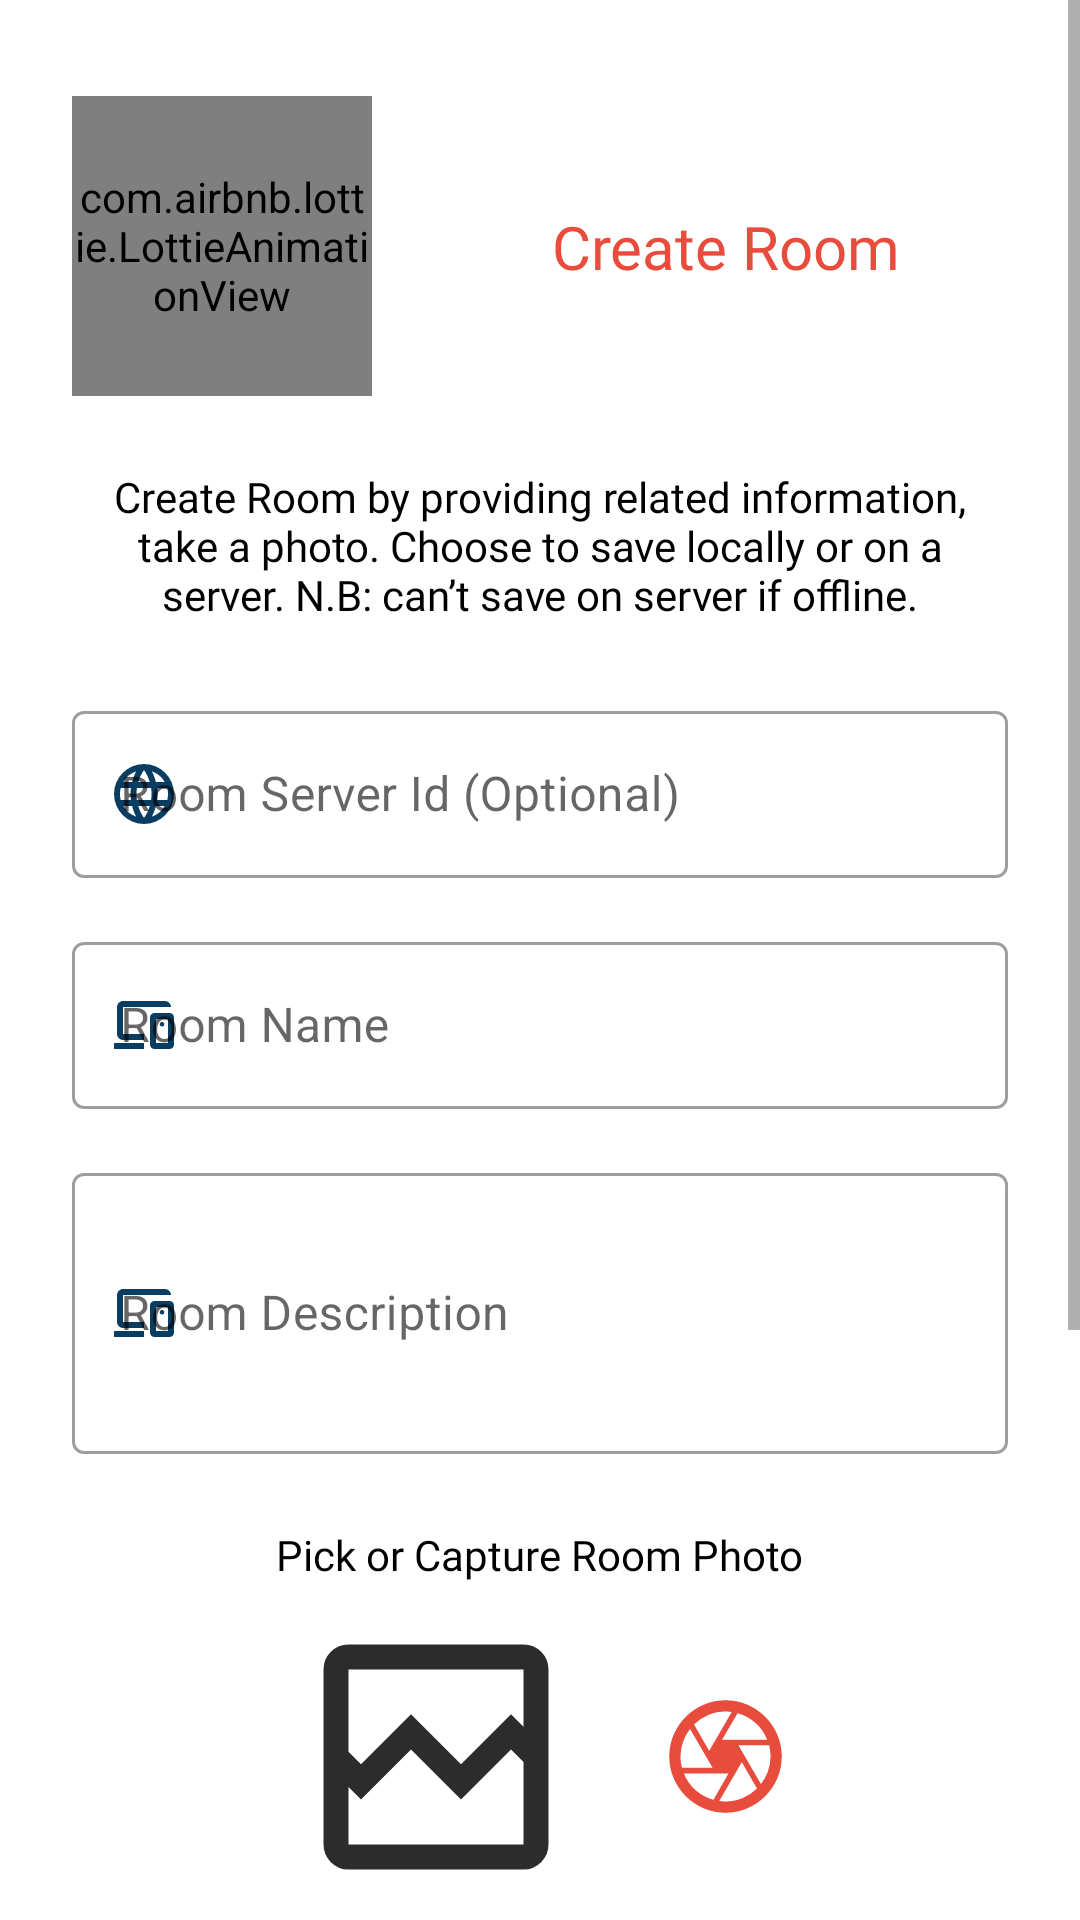

Where icons sit on this 1080x1920 app screen, as (x1, y1, x2, y2):
camera: (669, 1700, 782, 1813)
